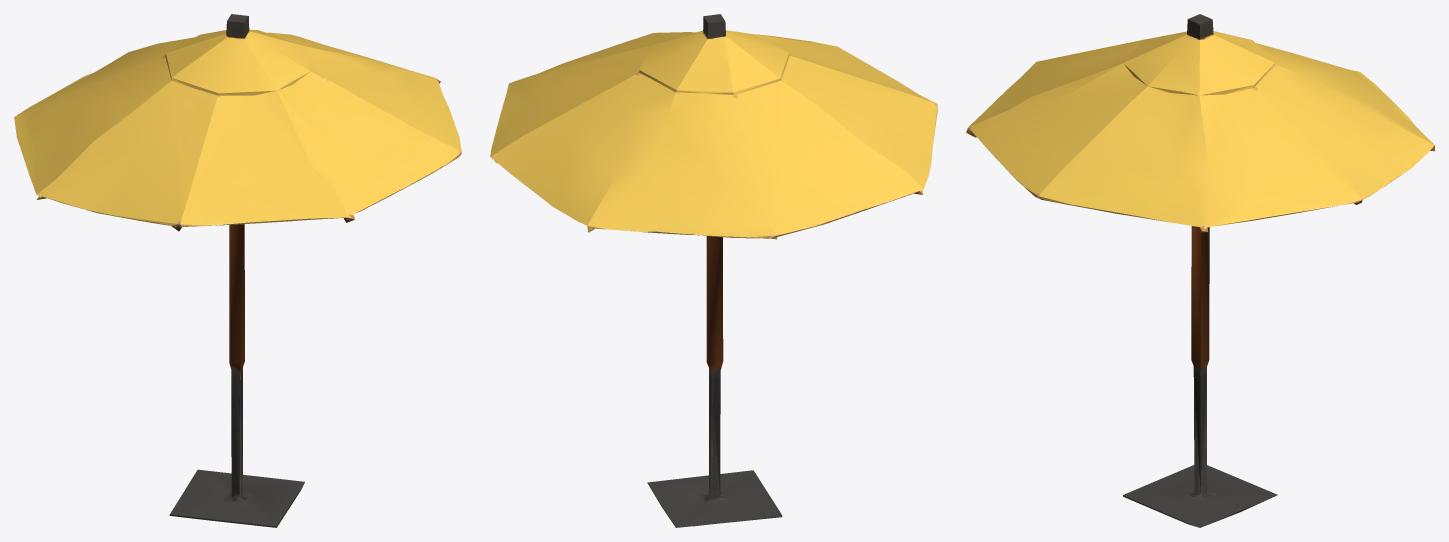
File: umbrella_yellow.glb
3 views of the same model, side by side, from view 1: azimuth 30°, elevation 25°; view 2: azimuth 150°, elevation 25°; view 3: azimuth 270°, elevation 25° (orthographic).
Visible parts, largest first — view 1: body; view 2: body; view 3: body.
Boxes of the visible parts, left/top/right/bottom form: body: left=14, top=14, right=461, bottom=527; body: left=490, top=14, right=937, bottom=527; body: left=966, top=14, right=1434, bottom=527.
Size of the model in its own units: 2.31 by 2.6 by 2.31.
Materials: 1 (1 with a texture image).
